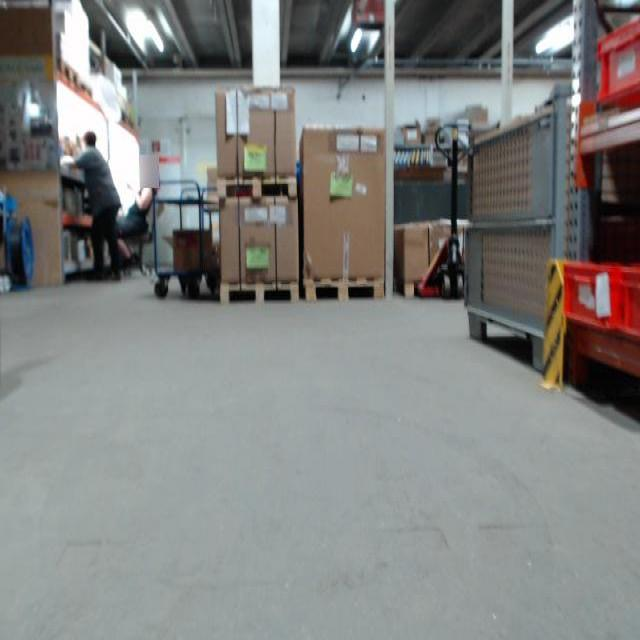pallet: (218, 279, 300, 305), (215, 175, 299, 200), (301, 276, 382, 300)
pallet_truck: (412, 115, 480, 302)
small_load_carrier: (561, 258, 623, 333), (589, 21, 637, 116), (619, 262, 638, 339)
stillage: (450, 85, 569, 370)
